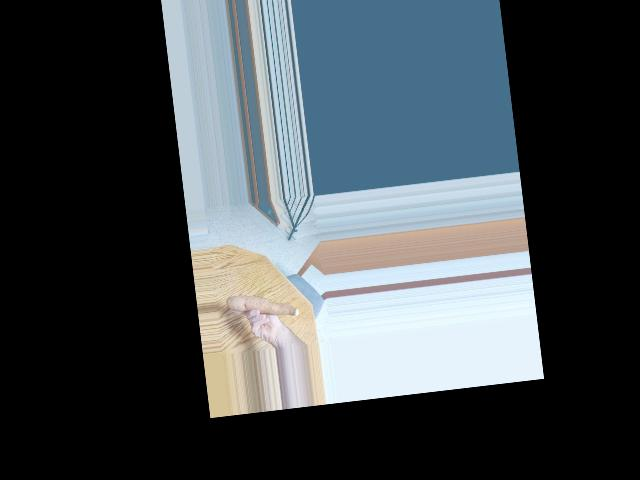sweet_potato: (227, 283, 301, 323)
